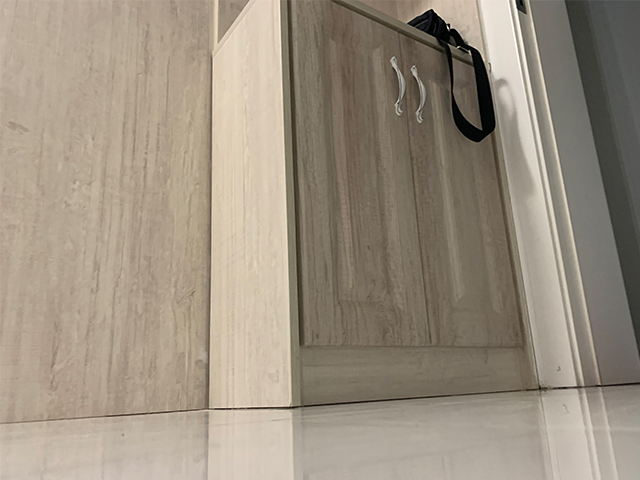cabinet: (206, 1, 542, 411)
